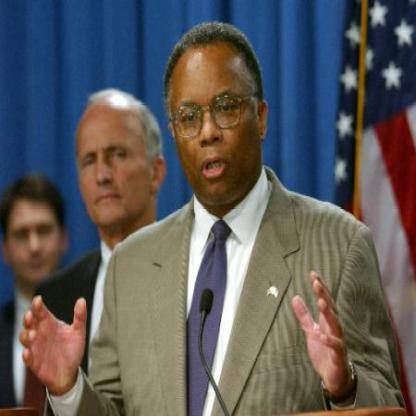face: (170, 25, 260, 205), (74, 91, 154, 228), (7, 177, 63, 286)
